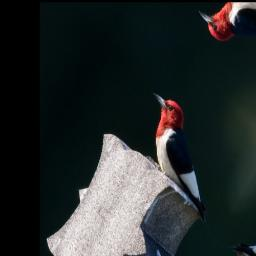Woodpecker: (118, 81, 244, 233)
